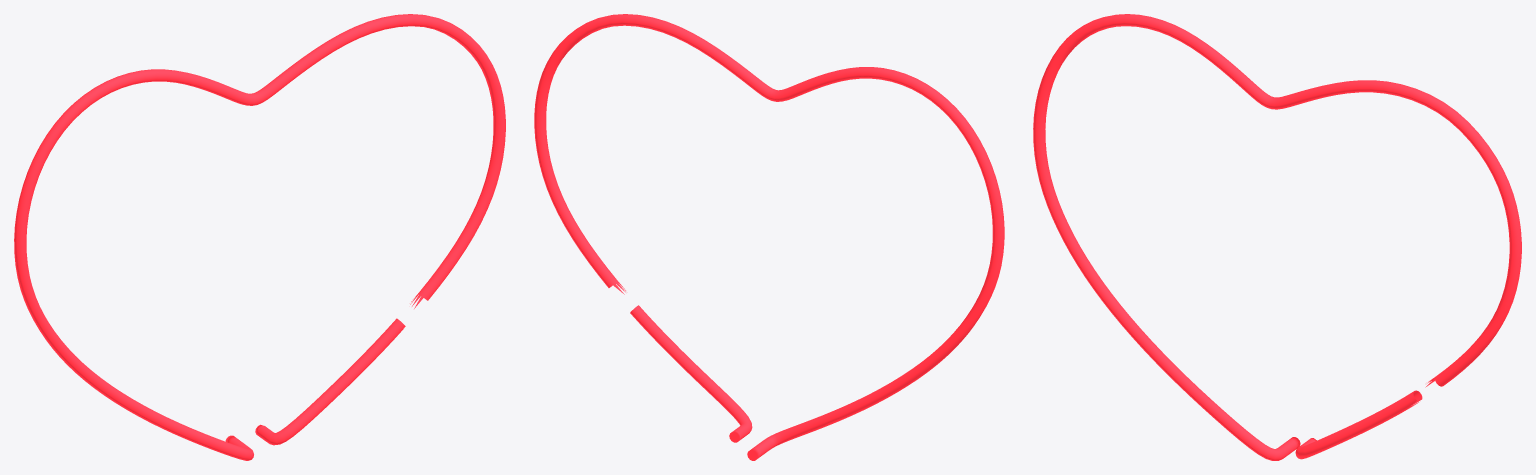
The model's file is neon_heart.glb.
3 views of the same model, side by side, from view 1: azimuth 30°, elevation 25°; view 2: azimuth 150°, elevation 25°; view 3: azimuth 330°, elevation 25° (orthographic). The views are drawn at different scales.
Visible parts, largest first — view 1: vegas_heart; view 2: vegas_heart; view 3: vegas_heart.
Part boxes in pixels (left/top/right/bottom): vegas_heart: left=14, top=14, right=505, bottom=460; vegas_heart: left=534, top=14, right=1004, bottom=460; vegas_heart: left=1033, top=14, right=1521, bottom=460.
Size of the model in its own units: 2.4 by 1.97 by 0.2267.
